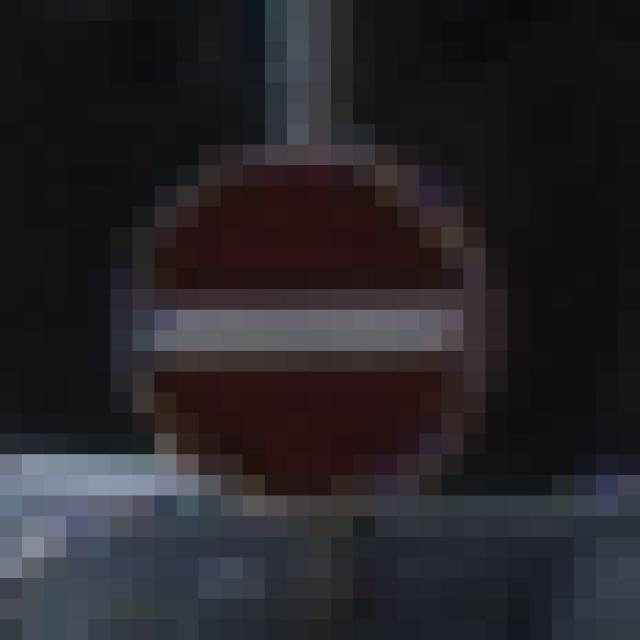No Entry: (111, 125, 531, 538)
